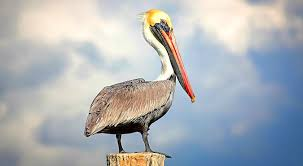pelican: (84, 9, 196, 156)
